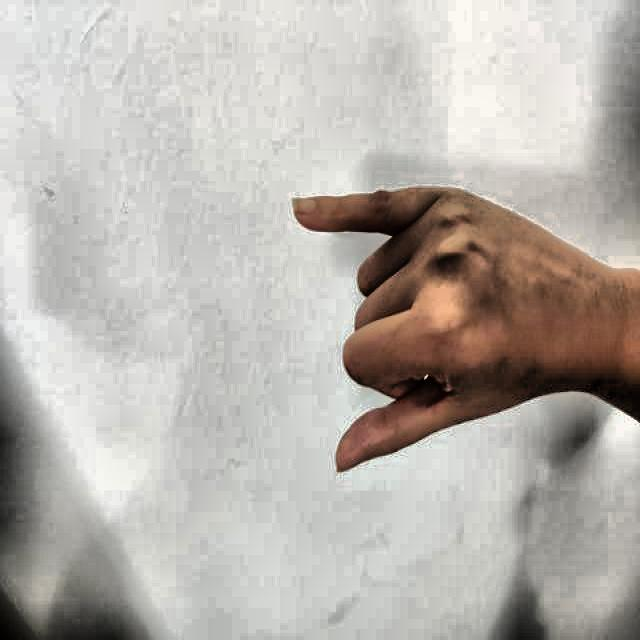Oi: (251, 131, 608, 520)
